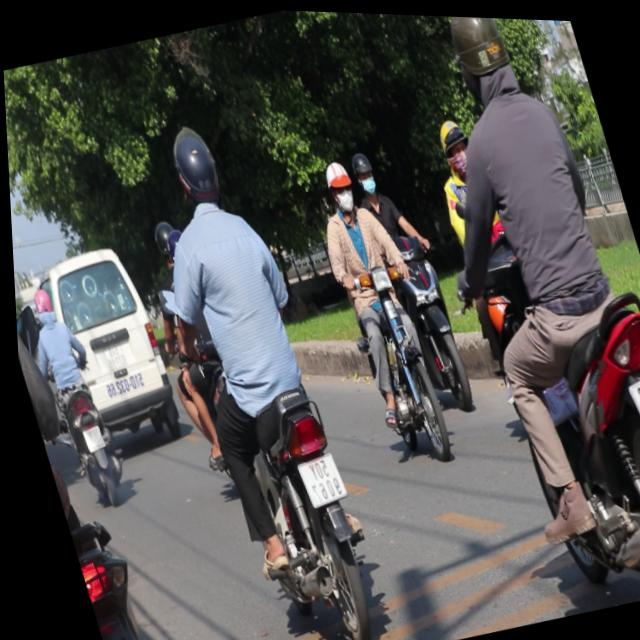helmet: (437, 13, 526, 104), (162, 120, 229, 215), (318, 153, 360, 214), (345, 144, 380, 198), (28, 284, 57, 324)
licenseplate: (379, 11, 640, 615), (102, 108, 394, 640), (299, 145, 459, 469), (345, 134, 477, 417), (15, 278, 130, 512)
nohelmet: (291, 449, 343, 507), (623, 362, 640, 435), (75, 423, 102, 453)
